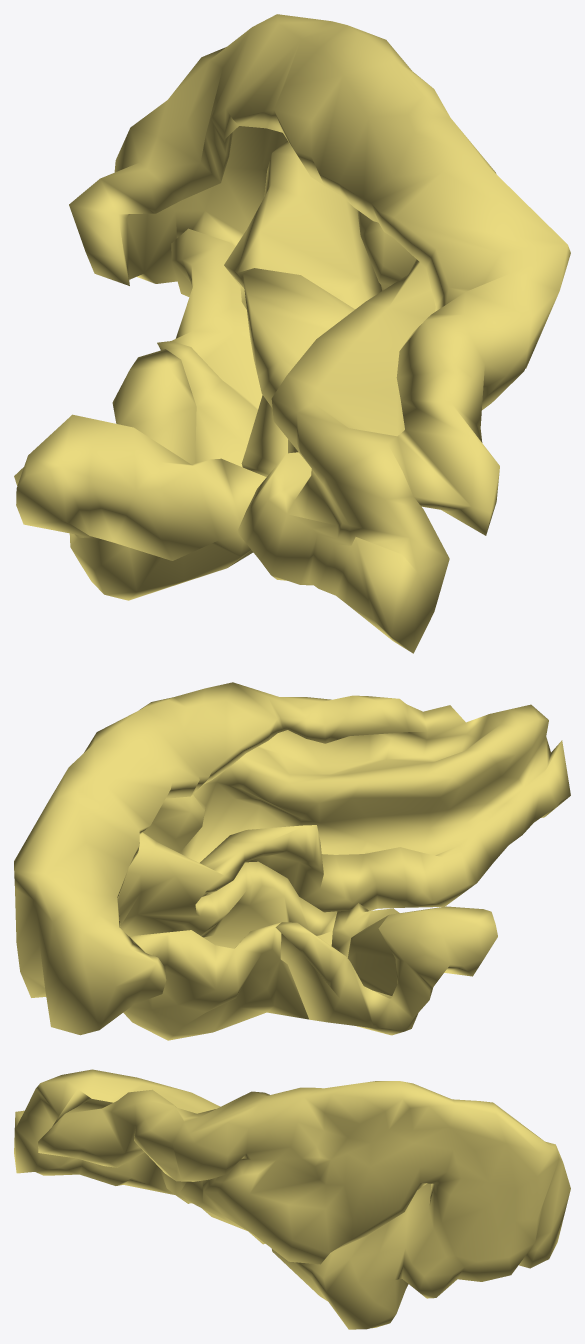
File: lingual-gyrus-r.glb
The picture shows the model from 3 angles, top to bottom: view 1: azimuth 30°, elevation 25°; view 2: azimuth 150°, elevation 25°; view 3: azimuth 270°, elevation 25°; orthographic projection. The views are drawn at different scales.
Parts seen in each view (by area): view 1: Lingual gyrus.r; view 2: Lingual gyrus.r; view 3: Lingual gyrus.r.
Boxes of the visible parts, left/top/right/bottom form: Lingual gyrus.r: left=14, top=14, right=570, bottom=653; Lingual gyrus.r: left=14, top=682, right=570, bottom=1040; Lingual gyrus.r: left=14, top=1069, right=570, bottom=1329.
Size of the model in its own units: 0.0338 by 0.0314 by 0.0609.
